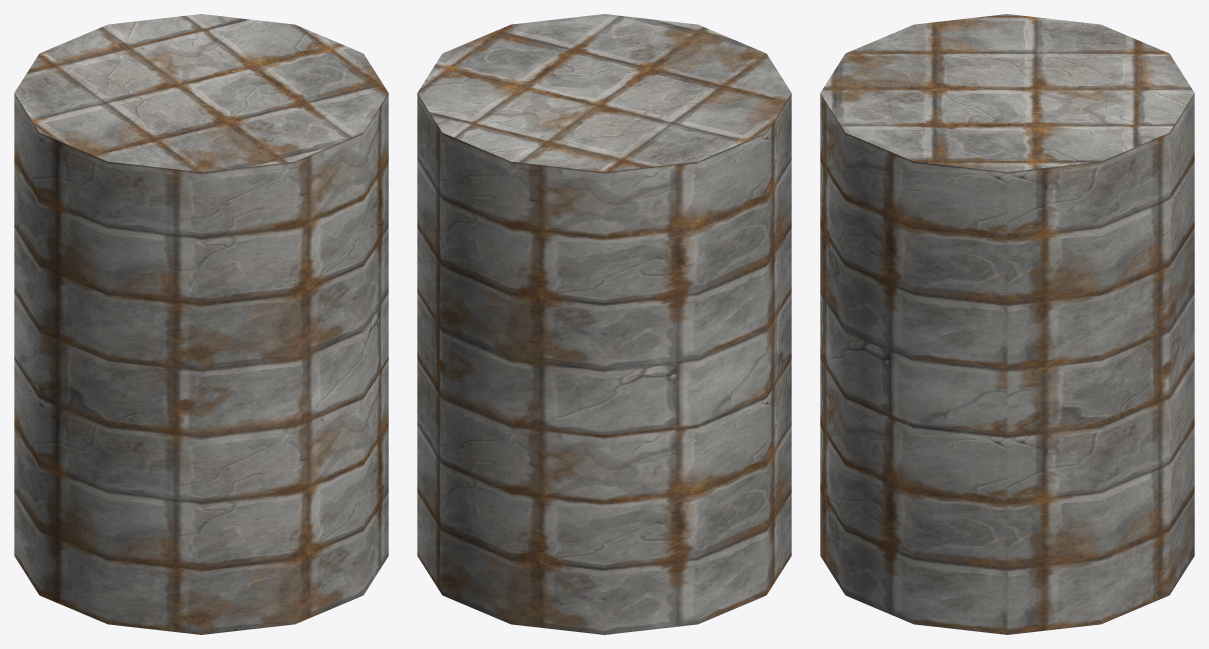
The model's file is PIL0110011.FBX.
3 renders of one model, left to right at view 1: azimuth 30°, elevation 25°; view 2: azimuth 150°, elevation 25°; view 3: azimuth 270°, elevation 25°, orthographic.
Visible parts, largest first — view 1: smPIL0110011; view 2: smPIL0110011; view 3: smPIL0110011.
Part boxes in pixels (bbox=[...]): smPIL0110011: bbox=[14, 14, 388, 634]; smPIL0110011: bbox=[417, 14, 791, 634]; smPIL0110011: bbox=[820, 14, 1194, 634].
Bounding box in the file's own units: 0.6275 × 0.8557 × 0.6275.
Materials: 1 (1 with a texture image).
